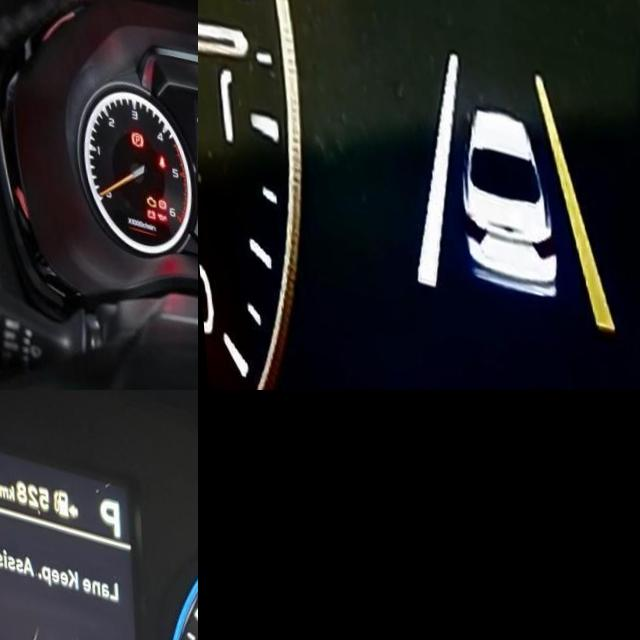Seat Belt: (153, 142, 162, 158)
